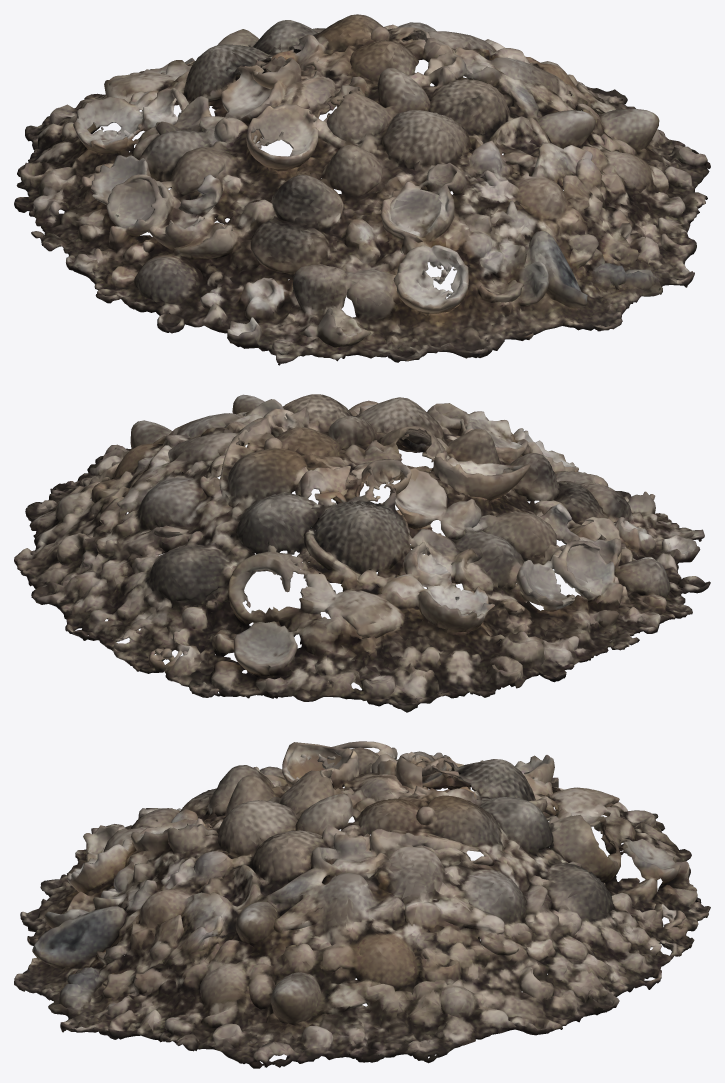
3 views of the same model, one above another, from view 1: azimuth 30°, elevation 25°; view 2: azimuth 150°, elevation 25°; view 3: azimuth 270°, elevation 25° (orthographic).
Visible parts, largest first — view 1: Mesh_0; view 2: Mesh_0; view 3: Mesh_0.
Part boxes in pixels (x1,y1,x2,y2): Mesh_0: [14, 14, 710, 365]; Mesh_0: [14, 394, 710, 712]; Mesh_0: [14, 741, 710, 1068].
Size of the model in its own units: 1.5 by 0.3912 by 1.5.
Materials: 1 (1 with a texture image).
